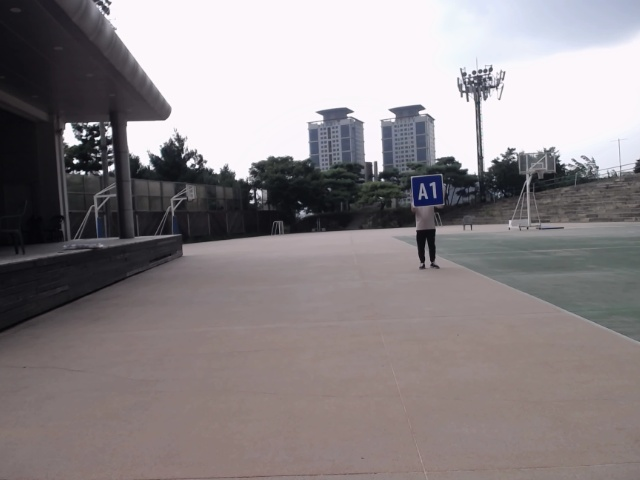delivery_a1: (412, 174, 443, 207)
